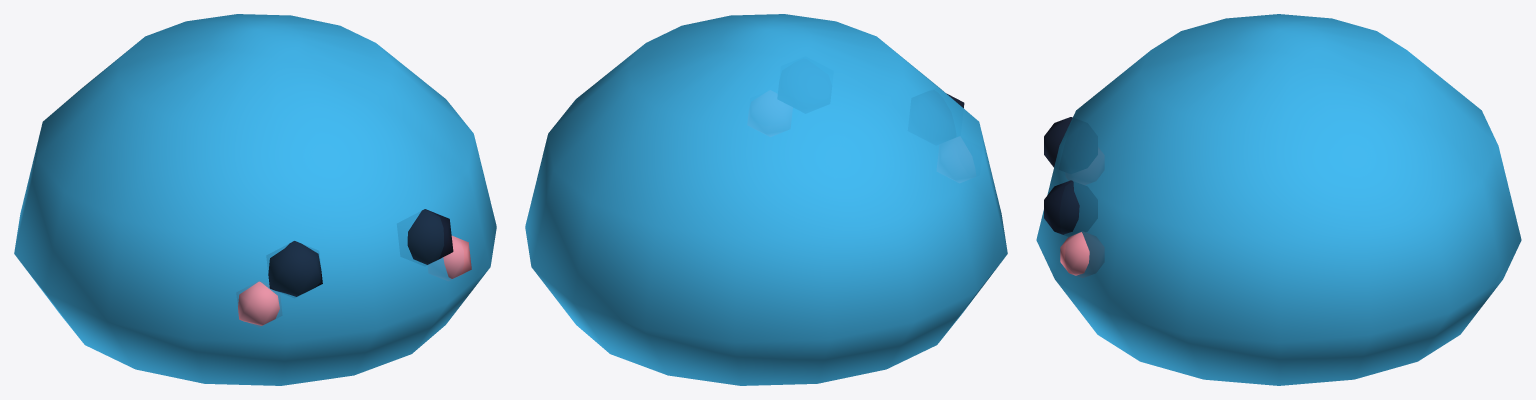
File: w4_03_slime.glb
3 renders of one model, left to right at view 1: azimuth 30°, elevation 25°; view 2: azimuth 150°, elevation 25°; view 3: azimuth 270°, elevation 25°, orthographic.
Visible parts, largest first — view 1: W4_03_Slime; view 2: W4_03_Slime; view 3: W4_03_Slime.
Part boxes in pixels (left/top/right/bottom): W4_03_Slime: left=14, top=14, right=496, bottom=385; W4_03_Slime: left=525, top=14, right=1007, bottom=385; W4_03_Slime: left=1036, top=14, right=1521, bottom=385.
Size of the model in its own units: 0.84 by 0.52 by 0.84.
1 material, 1 textured.
